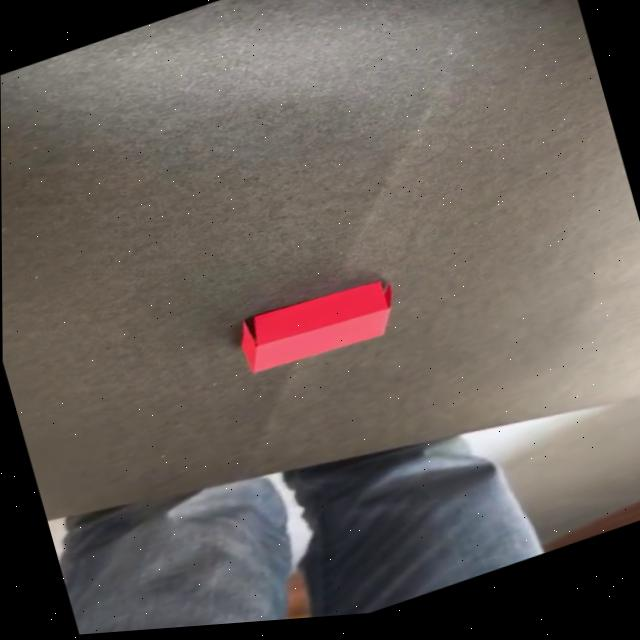red block: (233, 268, 406, 383)
